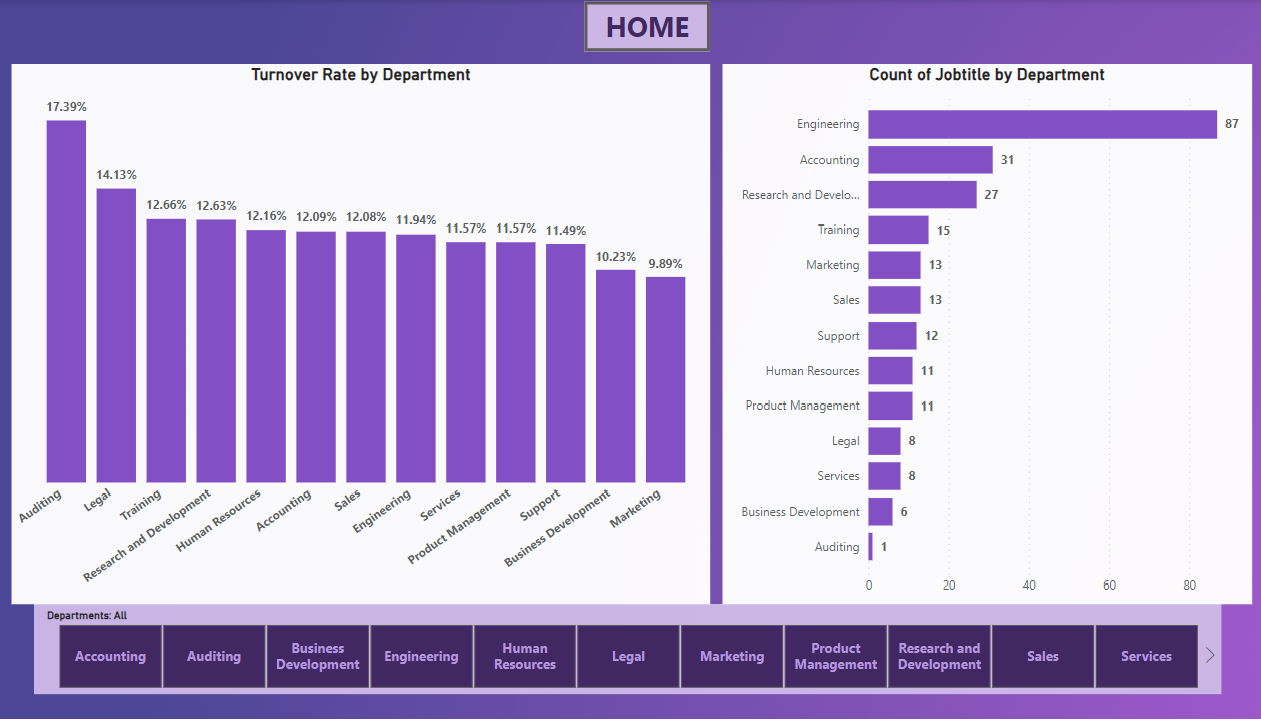

The page's visual inventory and layout, read from the dashboard file:
{"tool":"powerbi","page":{"name":"Page 4","canvas":[1280,720],"ordinal":3},"visuals":[{"type":"actionButton","box":[591.5,1.9,126.6,49.1],"z":0},{"type":"slicer","fields":{"Values":["hr.department"]},"box":[36.3,603.2,1198.4,90],"z":1000},{"type":"clusteredColumnChart","title":"Turnover Rate by Department","fields":{"Category":["hr.department"],"Y":["Metrics.Turnover Rate"]},"box":[13.6,63.6,705.6,539.1],"z":2000},{"type":"clusteredBarChart","title":"Count of Jobtitle by Department","fields":{"Category":["hr.department"],"Y":["Count(hr.jobtitle)"]},"box":[731.4,63.6,534.5,539.1],"z":2001}]}

Visuals, with their boxes in screenshot pixels (x1, y1, x2, y2), scaled from the page's 1280x720 canvas onto the 1261x720 screenshot:
actionButton: box(583, 2, 707, 51)
slicer - hr.department: box(36, 603, 1216, 693)
"Turnover Rate by Department" clusteredColumnChart: box(13, 64, 709, 603)
"Count of Jobtitle by Department" clusteredBarChart: box(721, 64, 1247, 603)
